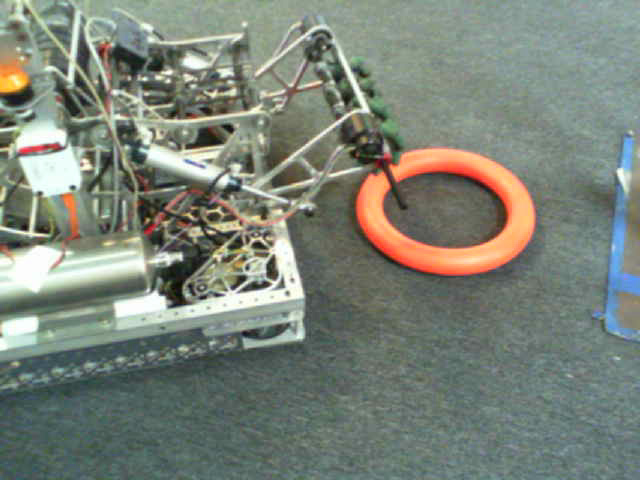Note: (364, 153, 546, 280)
Robot: (8, 10, 388, 386)
